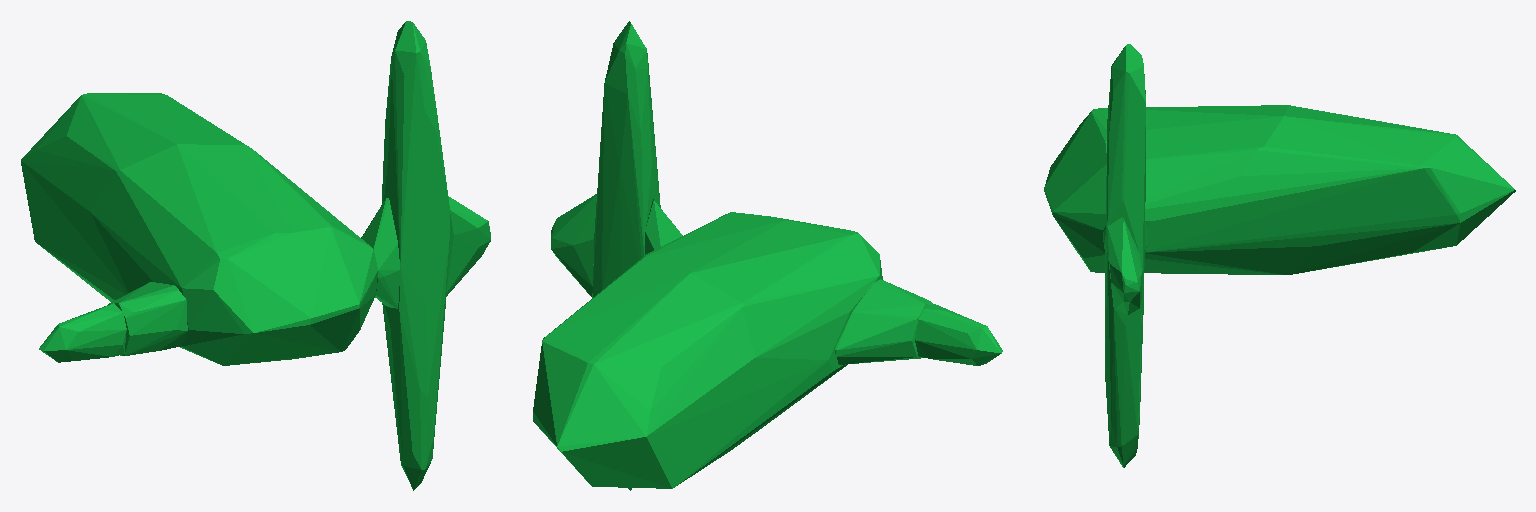
URDF robot description (blob869):
<robot name="blob869">
  <link name="random_obj_869">
    <contact>
      <lateral_friction value="1.0"/>
      <rolling_friction value="0.0"/>
      <inertia_scaling value="3.0"/>
      <contact_cfm value="0.0"/>
      <contact_erp value="1.0"/>
    </contact>
    <inertial>
      <origin rpy="0 0 0" xyz="0 0 0"/>
      <mass value="0.1"/>
      <inertia ixx="1" ixy="0" ixz="0" iyy="1" iyz="0" izz="0"/>
    </inertial>
    <visual>
      <origin rpy="0 0 0" xyz="0 0 0"/>
      <geometry>
        <mesh filename="869.obj" scale="0.015 0.015 0.015"/>
      </geometry>
      <material name="blockmat">
        <color rgba="0.13 0.74 0.32 1"/>
      </material>
    </visual>
    <collision>
      <origin rpy="0 0 0" xyz="0 0 0"/>
      <geometry>
        <mesh filename="869.obj" scale="0.015 0.015 0.015"/>
      </geometry>
    </collision>
  </link>
</robot>

--- Facts derived from the render (not from the file) ---
The picture shows the robot from 3 angles, left to right: view 1: azimuth 30°, elevation 25°; view 2: azimuth 150°, elevation 25°; view 3: azimuth 270°, elevation 25°; orthographic projection.
Robot: blob869 — 1 links, 0 joints (none); root link random_obj_869; default pose: all joints at 0.
Visible links, largest first — view 1: random_obj_869; view 2: random_obj_869; view 3: random_obj_869.
Boxes of the visible links, <box> form: random_obj_869: <box>21,21,490,490</box>; random_obj_869: <box>533,21,1002,490</box>; random_obj_869: <box>1044,44,1515,467</box>.
Size in the robot's own frame: 0.0907 by 0.091 by 0.0903 metres.
1 mesh visuals loaded from 1 distinct referenced files (1 OBJ).